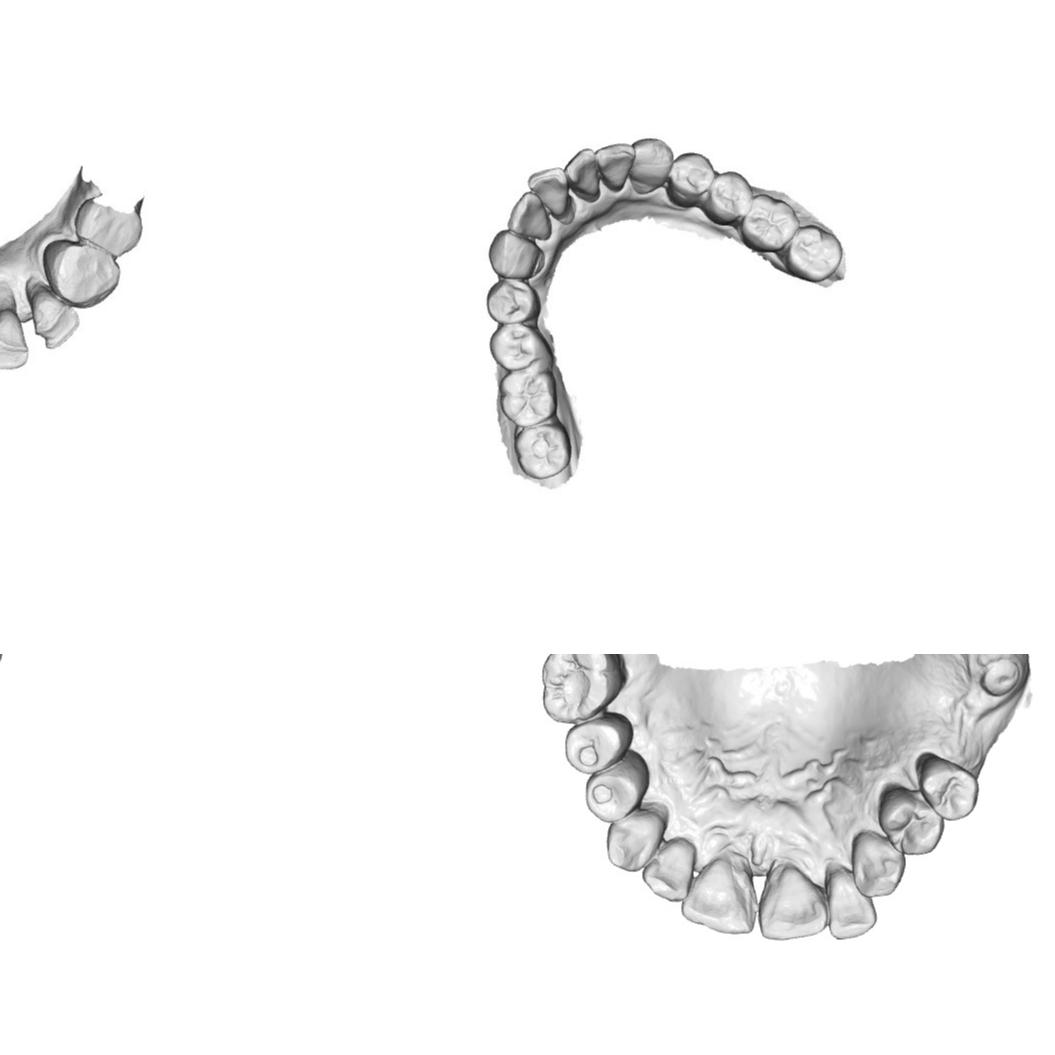canine: (846, 833, 906, 898), (603, 810, 663, 873), (486, 228, 540, 281), (629, 135, 674, 190)
implant: (976, 654, 1026, 698)
incisor: (678, 858, 755, 939), (753, 861, 829, 942), (821, 875, 878, 942), (22, 289, 81, 351), (640, 836, 693, 905), (0, 285, 33, 372), (526, 165, 572, 221), (507, 190, 552, 241), (563, 146, 603, 200), (594, 141, 635, 189)
molar: (537, 654, 630, 724), (740, 192, 801, 254), (498, 368, 560, 427), (512, 420, 571, 481), (786, 223, 844, 283)
premolar: (876, 785, 946, 860), (45, 240, 118, 305), (916, 752, 979, 821), (580, 767, 647, 825), (563, 717, 627, 776), (487, 322, 547, 373), (665, 149, 716, 201), (484, 278, 537, 326), (705, 169, 753, 221)
